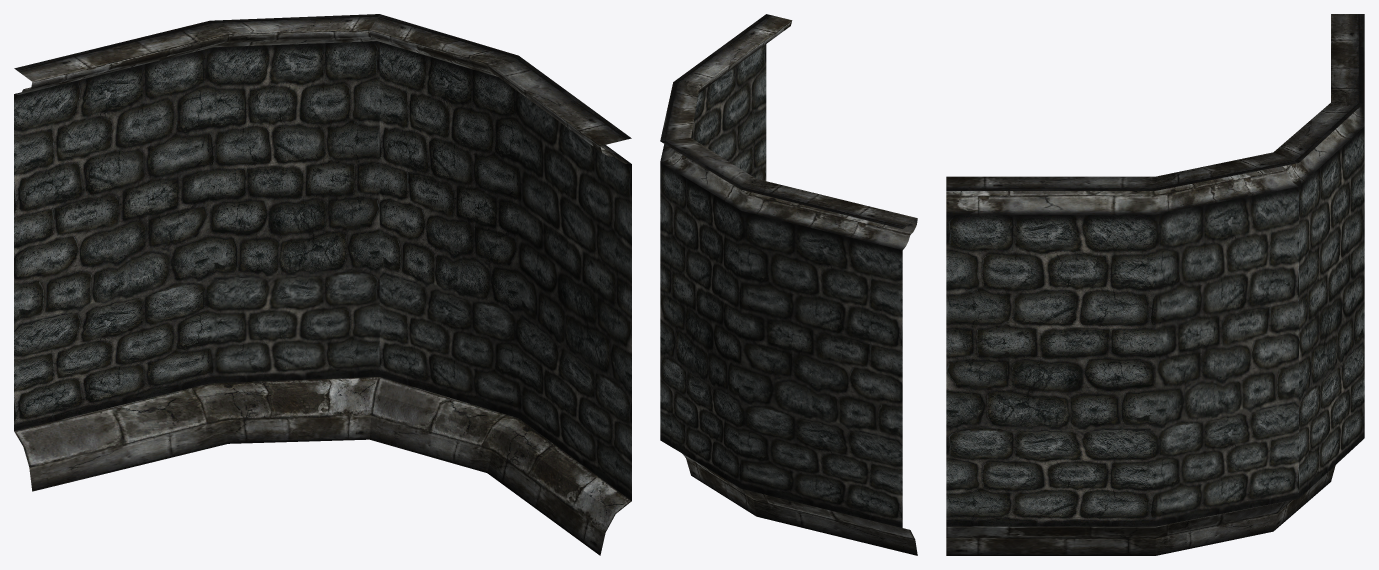
The model's file is corner_concave_round_extension.dae.
The picture shows the model from 3 angles, left to right: view 1: azimuth 30°, elevation 25°; view 2: azimuth 150°, elevation 25°; view 3: azimuth 270°, elevation 25°; orthographic projection. The views are drawn at different scales.
Visible parts, largest first — view 1: polySurface117; view 2: polySurface117; view 3: polySurface117.
Part boxes in pixels (x1=…): polySurface117: x1=14, y1=14, x2=631, y2=555; polySurface117: x1=660, y1=14, x2=917, y2=555; polySurface117: x1=946, y1=14, x2=1364, y2=555.
Size of what is drawn, in the model's own units: 4 by 4 by 4.
